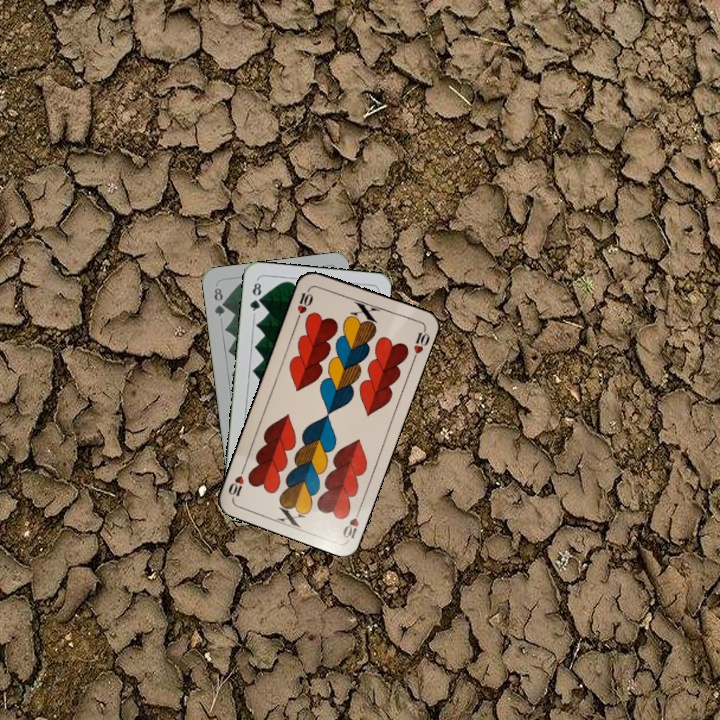G8: (246, 276, 264, 317), (210, 283, 228, 319)
H10: (338, 503, 364, 542), (293, 283, 316, 323)
